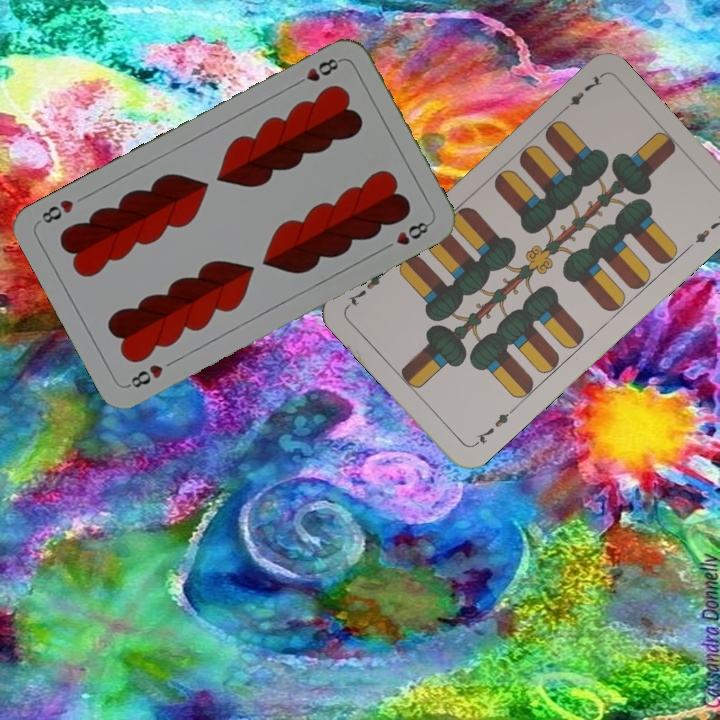E7: (557, 71, 606, 115), (469, 405, 517, 449)
H8: (290, 54, 345, 89), (123, 360, 166, 391)
